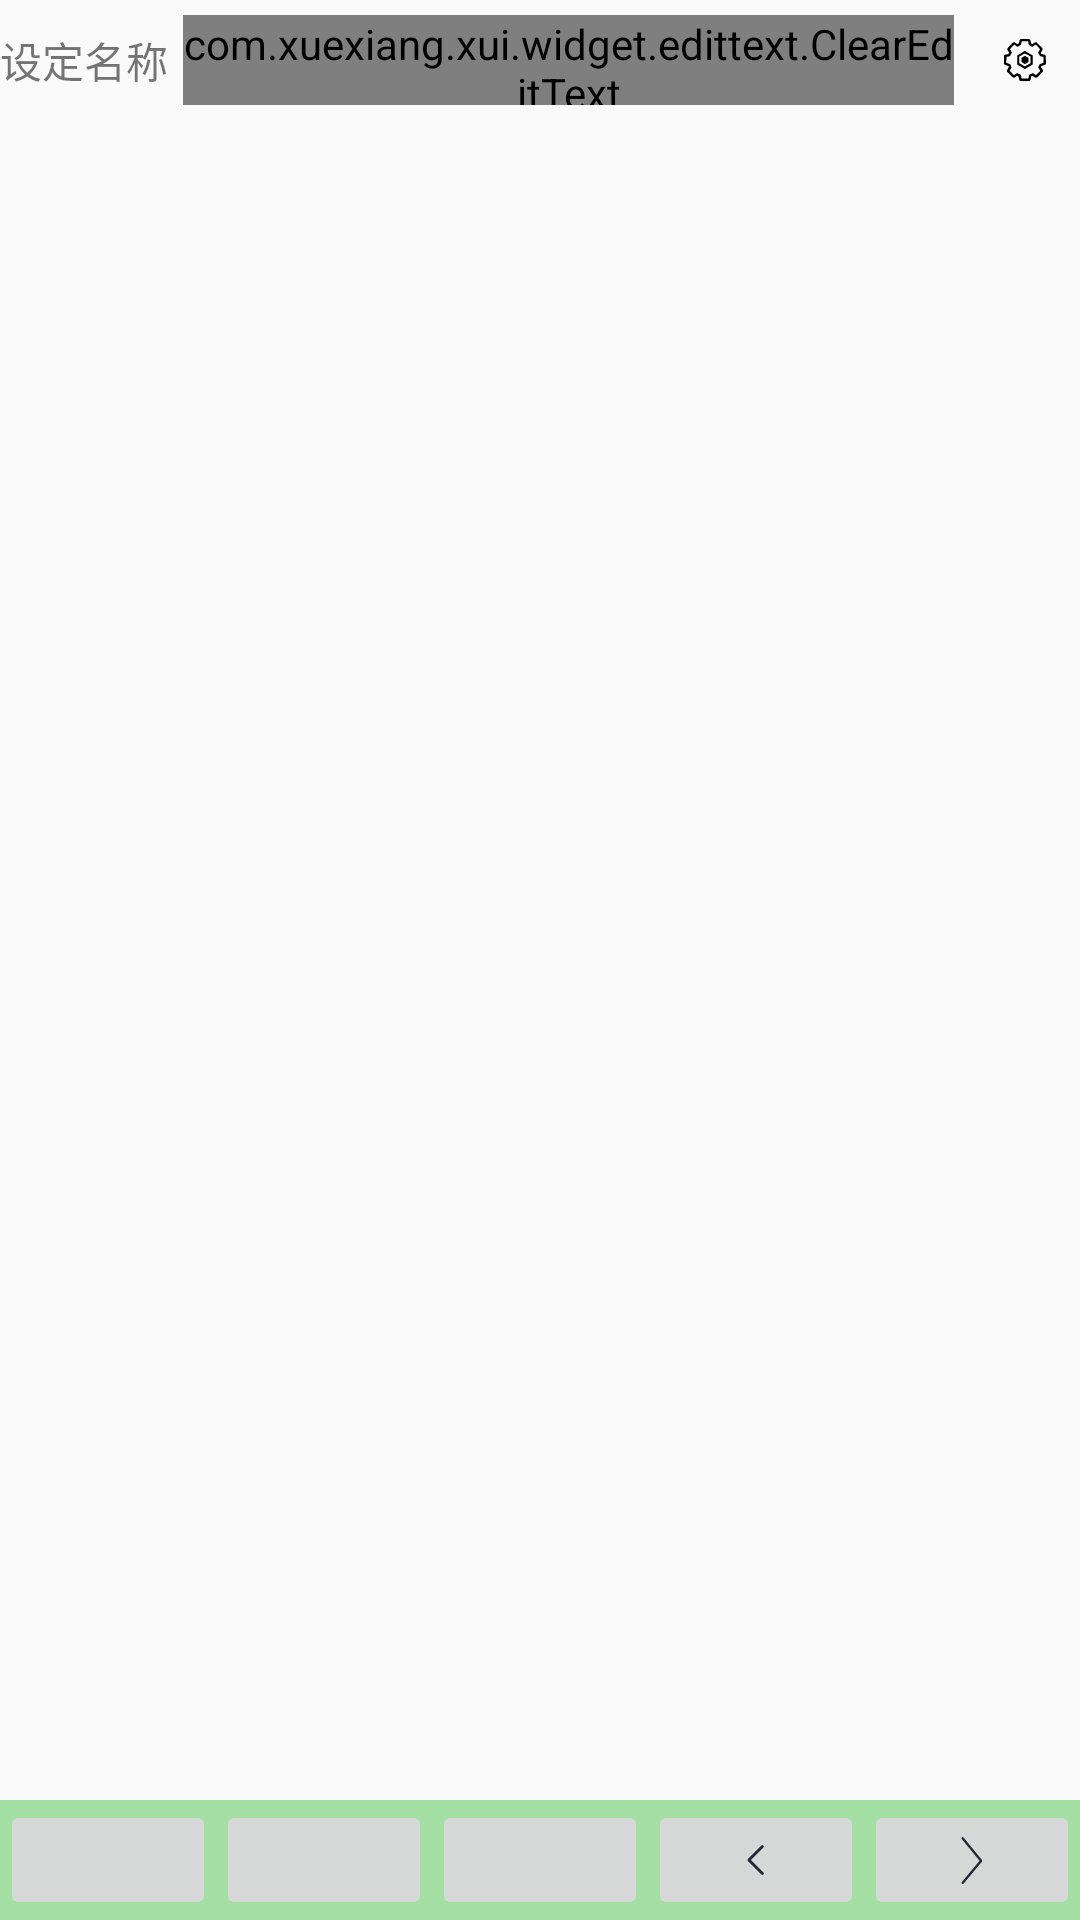

Locate icon controls on the screen. Image size 1080 x 1920, boxes as box(x1, y1, x2, y2).
setting: box(1004, 39, 1046, 81)
